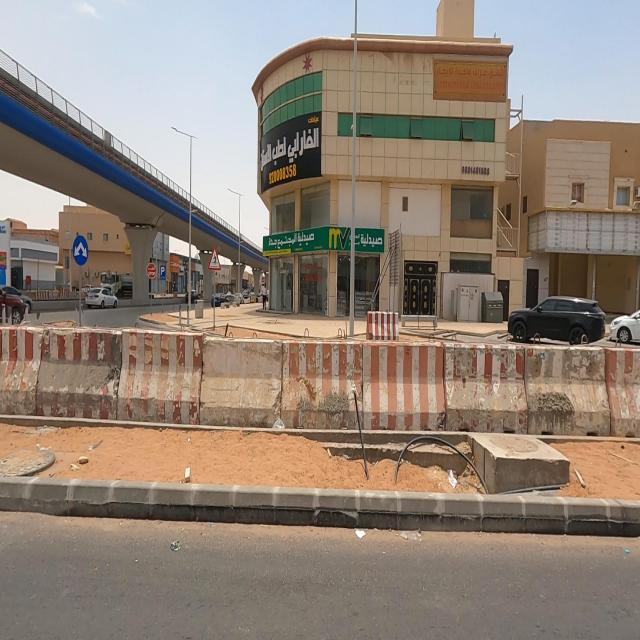debris: (419, 437, 482, 519), (150, 431, 212, 508), (60, 437, 106, 480)
